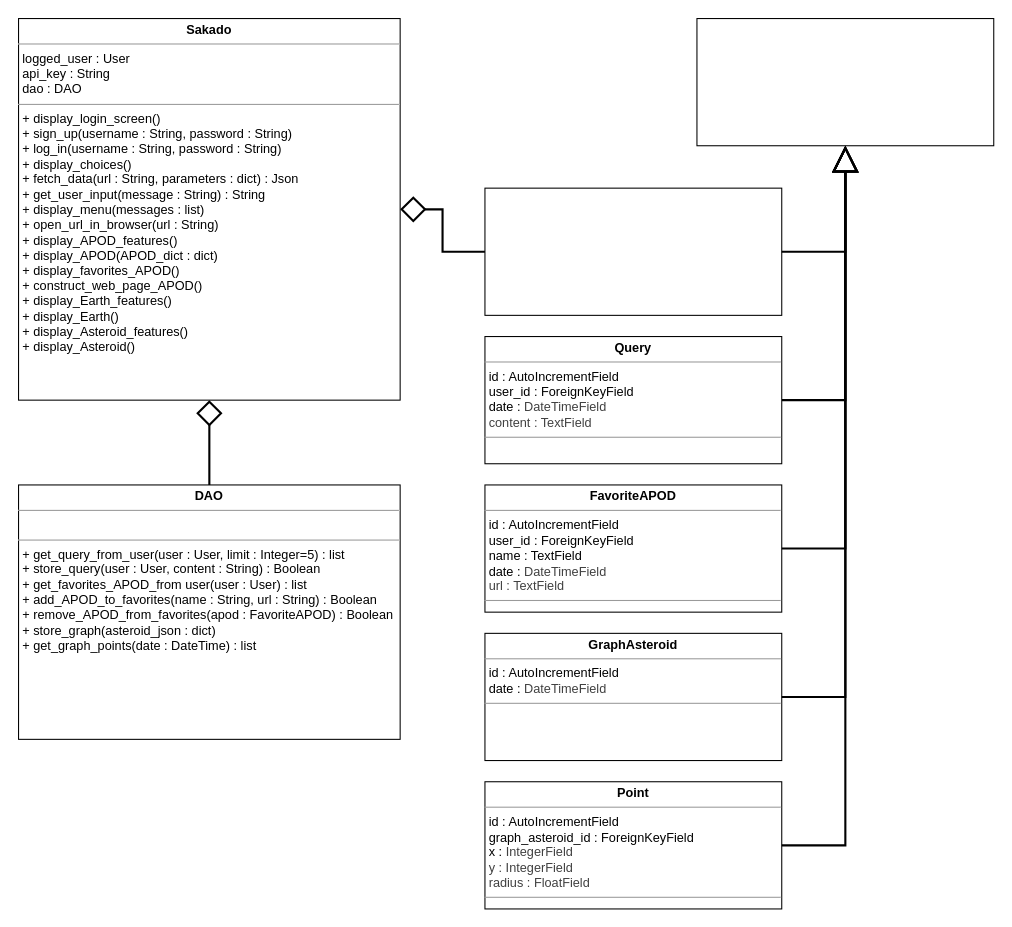
Some shapes in this 1012 by 927 pixel diagram are drawn without their labels. The shapes that lost their labels are listed below. From the top down, each one's centre as x and y in pixels, then its label:
At pixel 845 81: "BaseModel database : SqliteDatabase".
At pixel 633 251: "User id : AutoIncrementField username : TextField password : TextField".
